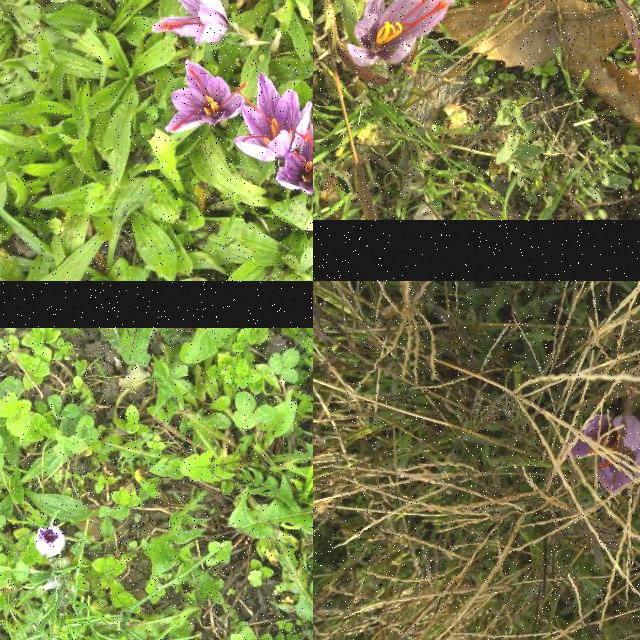flower: (348, 0, 458, 67), (232, 73, 313, 162), (165, 60, 248, 134), (565, 414, 640, 493), (152, 0, 229, 46), (275, 125, 313, 195), (33, 524, 65, 558)
